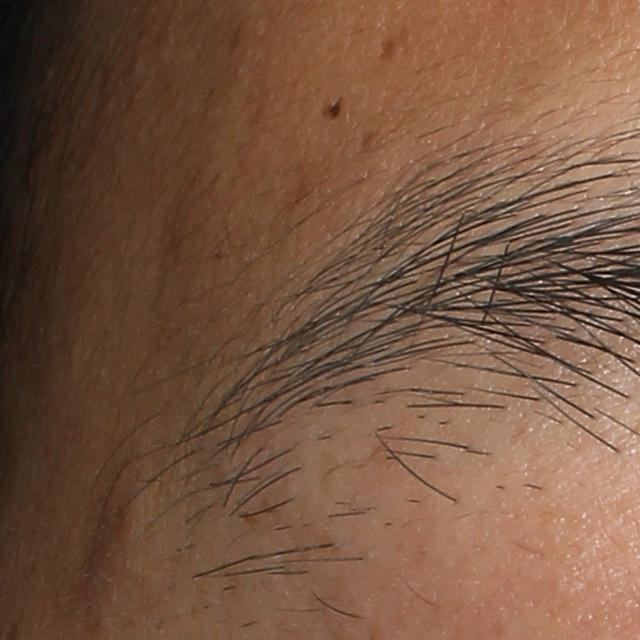nevus: (320, 93, 347, 123)
